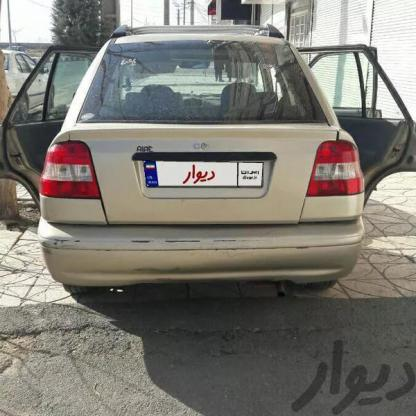Car: (48, 23, 380, 317), (0, 43, 60, 123)
